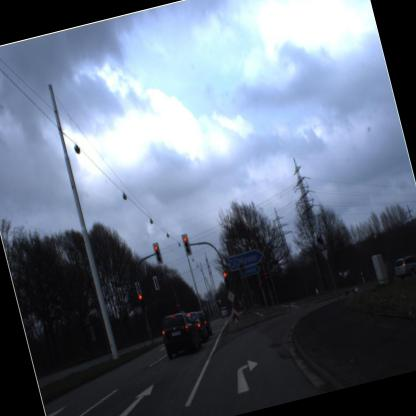other: (317, 244, 334, 265), (224, 288, 240, 305)
